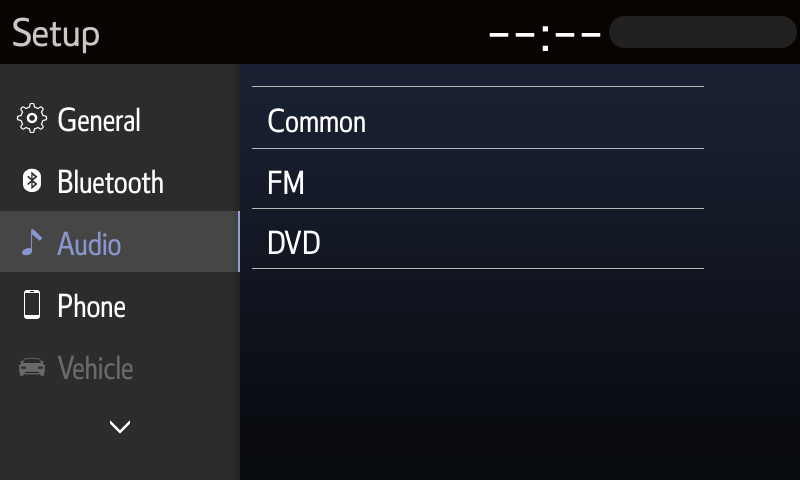touchPart: (248, 80, 707, 153), (245, 204, 713, 273), (246, 147, 713, 212), (18, 158, 176, 201), (12, 94, 159, 139), (6, 286, 141, 326), (100, 407, 141, 451)
untouchPart: (1, 207, 240, 276), (474, 11, 798, 58), (6, 349, 148, 392), (8, 11, 104, 54)
